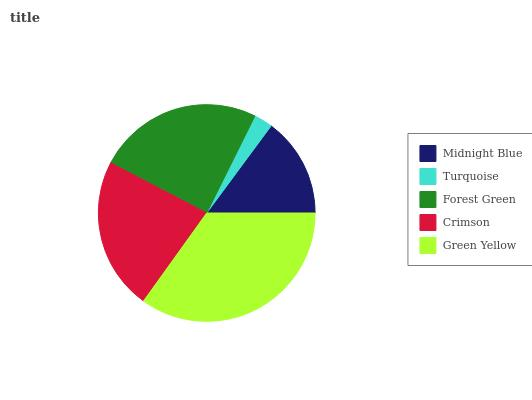legend: (407, 131, 532, 265)
sector: (142, 211, 313, 323), (107, 102, 255, 211), (94, 162, 206, 302), (208, 125, 316, 214), (206, 116, 271, 211)
